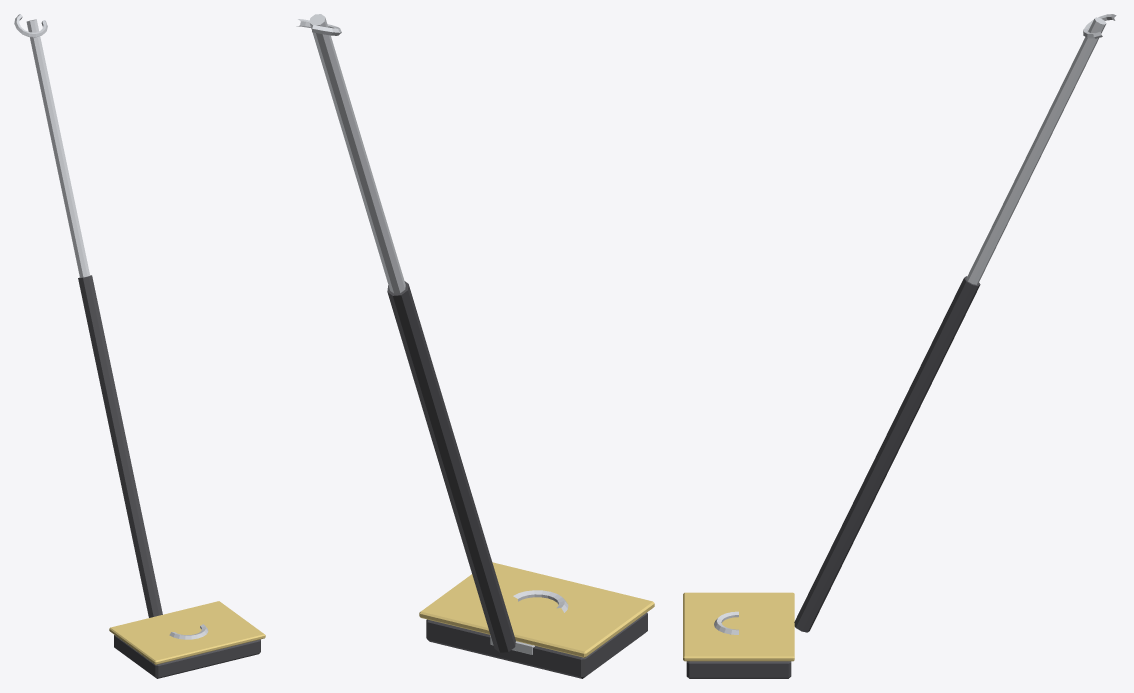
The model's file is theatre-stage-and-backstage-stage-brace-and-weight-c75020db.glb.
3 views of the same model, side by side, from view 1: azimuth 30°, elevation 25°; view 2: azimuth 150°, elevation 25°; view 3: azimuth 270°, elevation 25° (orthographic). The views are drawn at different scales.
Visible parts, largest first — view 1: stage-brace-and-weight; view 2: stage-brace-and-weight; view 3: stage-brace-and-weight.
Boxes of the visible parts, bbox=[...] form: stage-brace-and-weight: bbox=[14, 14, 265, 678]; stage-brace-and-weight: bbox=[296, 14, 654, 678]; stage-brace-and-weight: bbox=[683, 14, 1116, 678].
Size of the model in its own units: 0.44 by 1.99 by 1.25.
